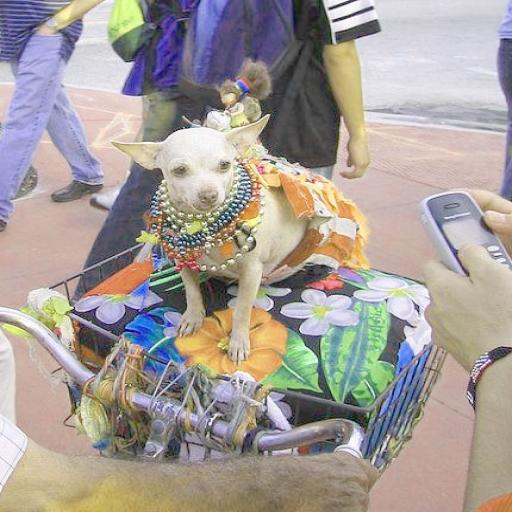dog_face: (103, 116, 273, 207)
